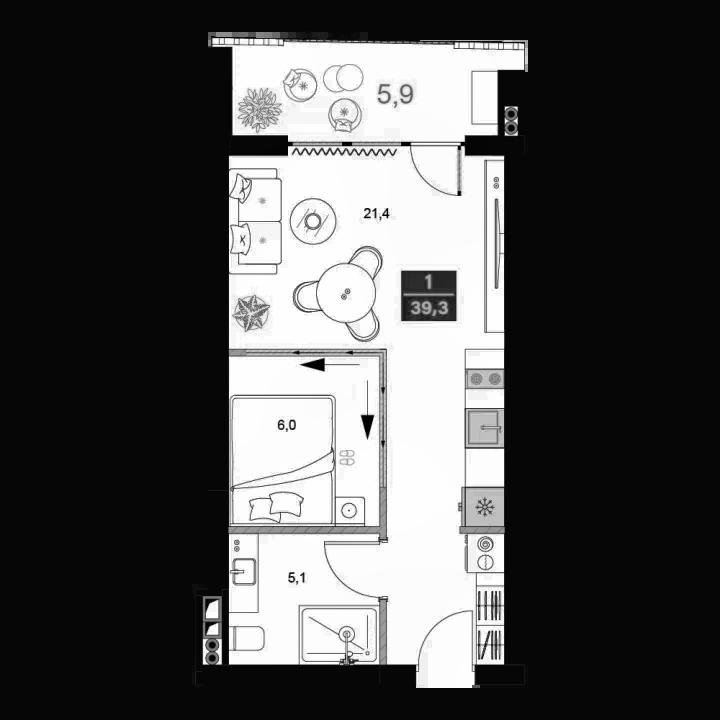door: (410, 606, 477, 674), (321, 538, 390, 603), (408, 137, 465, 198)
window: (291, 138, 345, 153), (347, 138, 406, 150)
